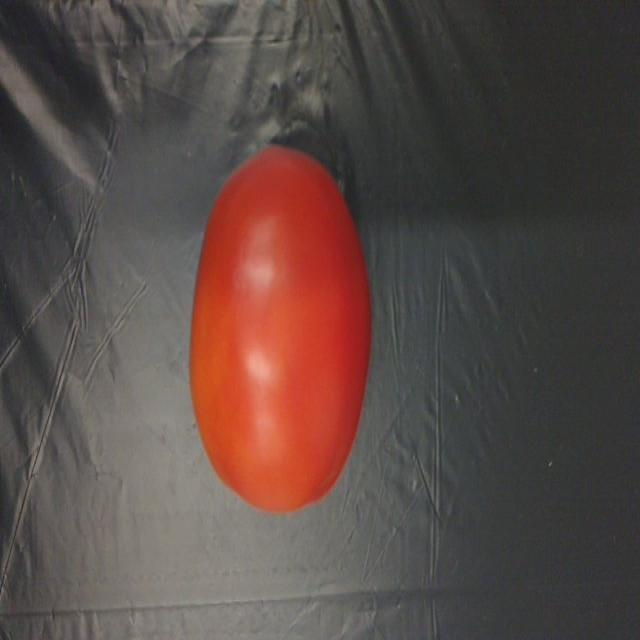kirmizi: (187, 139, 379, 516)
